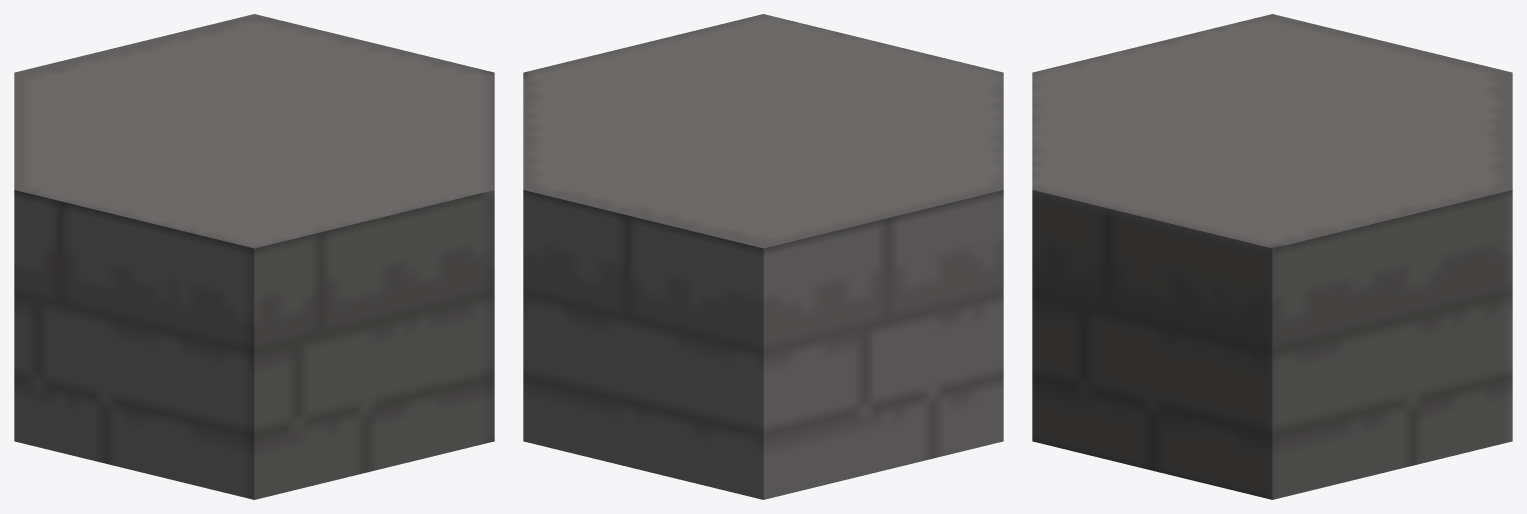
The model's file is wallStone.glb.
3 views of the same model, side by side, from view 1: azimuth 30°, elevation 25°; view 2: azimuth 150°, elevation 25°; view 3: azimuth 270°, elevation 25° (orthographic).
Parts seen in each view (by area): view 1: wallStone; view 2: wallStone; view 3: wallStone.
Boxes of the visible parts, x1,y1,x2,y2 form: wallStone: (14,14,494,499); wallStone: (523,14,1003,499); wallStone: (1032,14,1512,499).
Size of the model in its own units: 1 by 0.5 by 0.866.
Materials: 1 (1 with a texture image).
